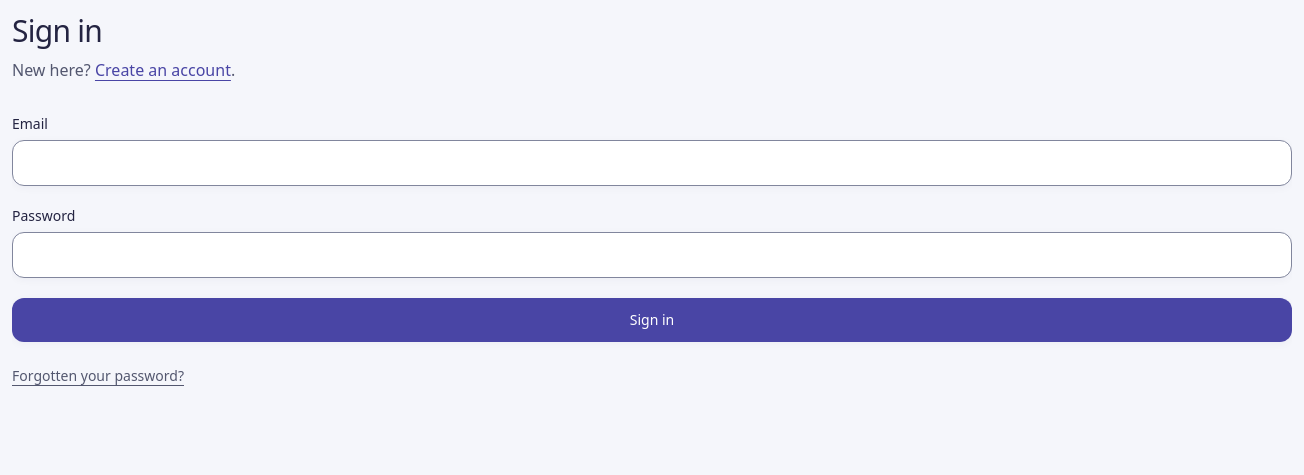
Test: what the page says when sign-in is refused › distinguishes a server it could not reach from a server that said no
Type "learner@example.test" into the field labelled "Email". click: (652, 162)
box: [12,140,1292,186]
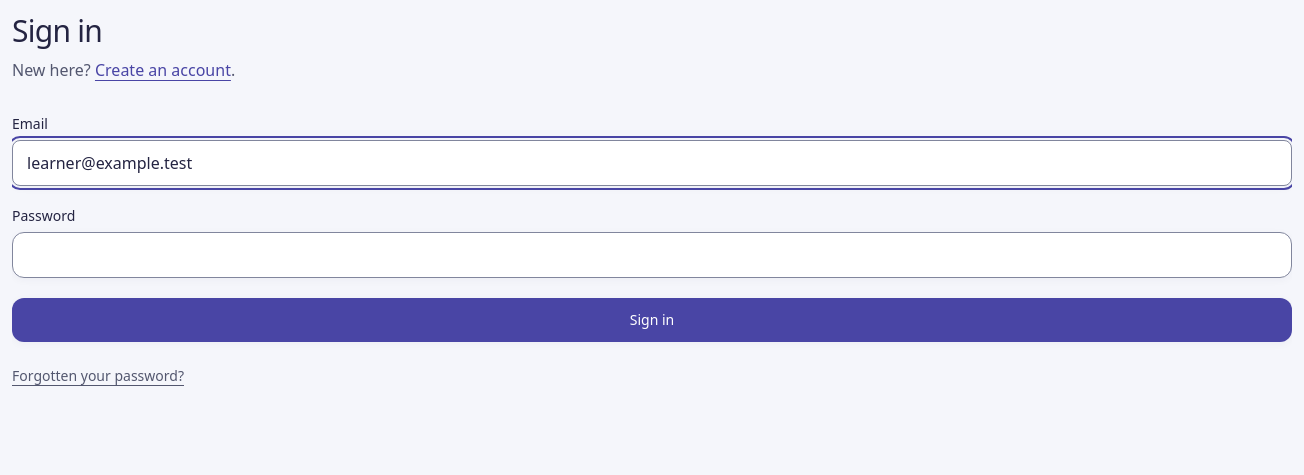
Type "correct horse" into the password field labelled "Password". click: (652, 254)
box: [12,232,1292,278]
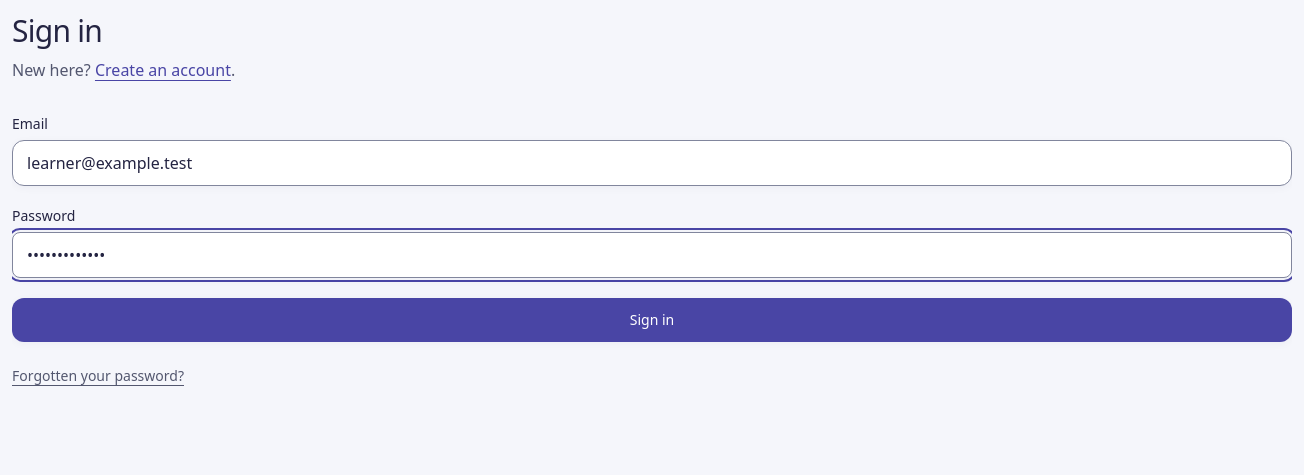
Click the button "Sign in". click: (652, 320)
box: [12,298,1292,342]
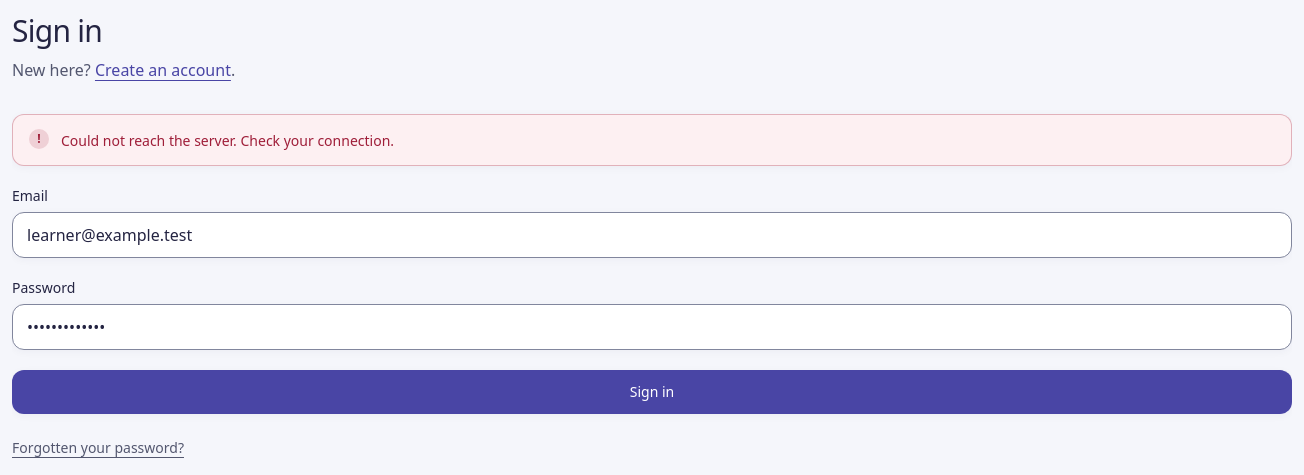
Check: the text "Could not reach the server. Check your connection." is shown, box [61,130,394,150]
